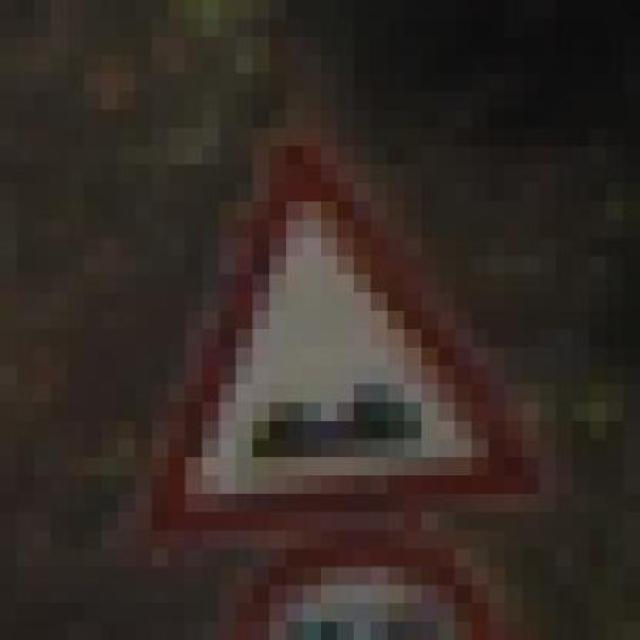Uneven Road: (135, 128, 556, 549)
